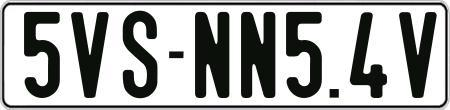4: (348, 9, 387, 96)
5: (23, 9, 60, 101), (283, 12, 320, 104)
N: (238, 10, 276, 96), (193, 12, 228, 103)
S: (122, 11, 162, 104)
V: (69, 9, 107, 101), (399, 12, 433, 100)
